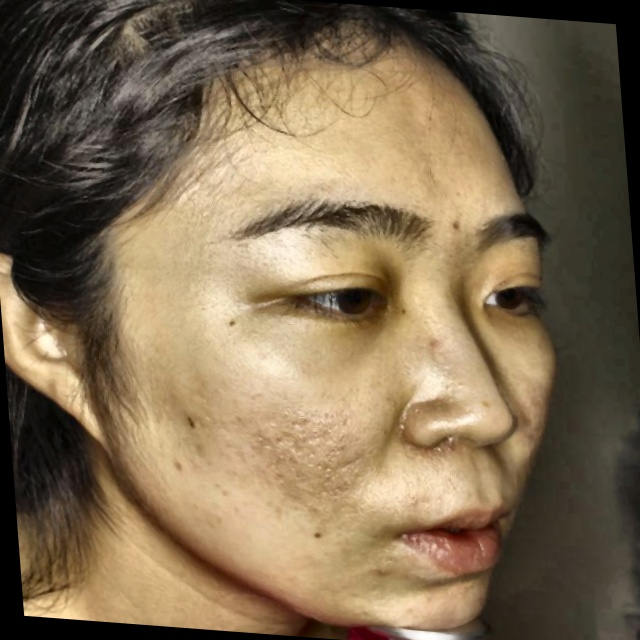comedone: (423, 325, 443, 357)
